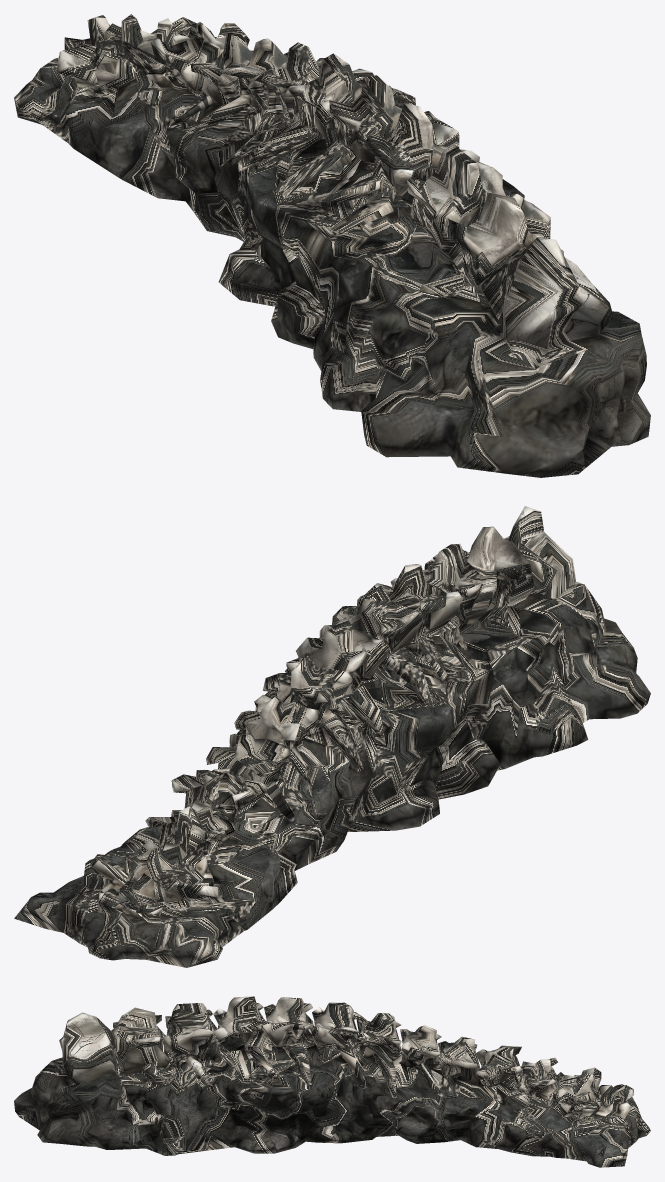
The model's file is sv_spine_lo.glb.
The picture shows the model from 3 angles, top to bottom: view 1: azimuth 30°, elevation 25°; view 2: azimuth 150°, elevation 25°; view 3: azimuth 270°, elevation 25°; orthographic projection. The views are drawn at different scales.
Bounding box in the file's own units: 0.6295 × 0.4237 × 1.9.
1 material, 1 textured.
